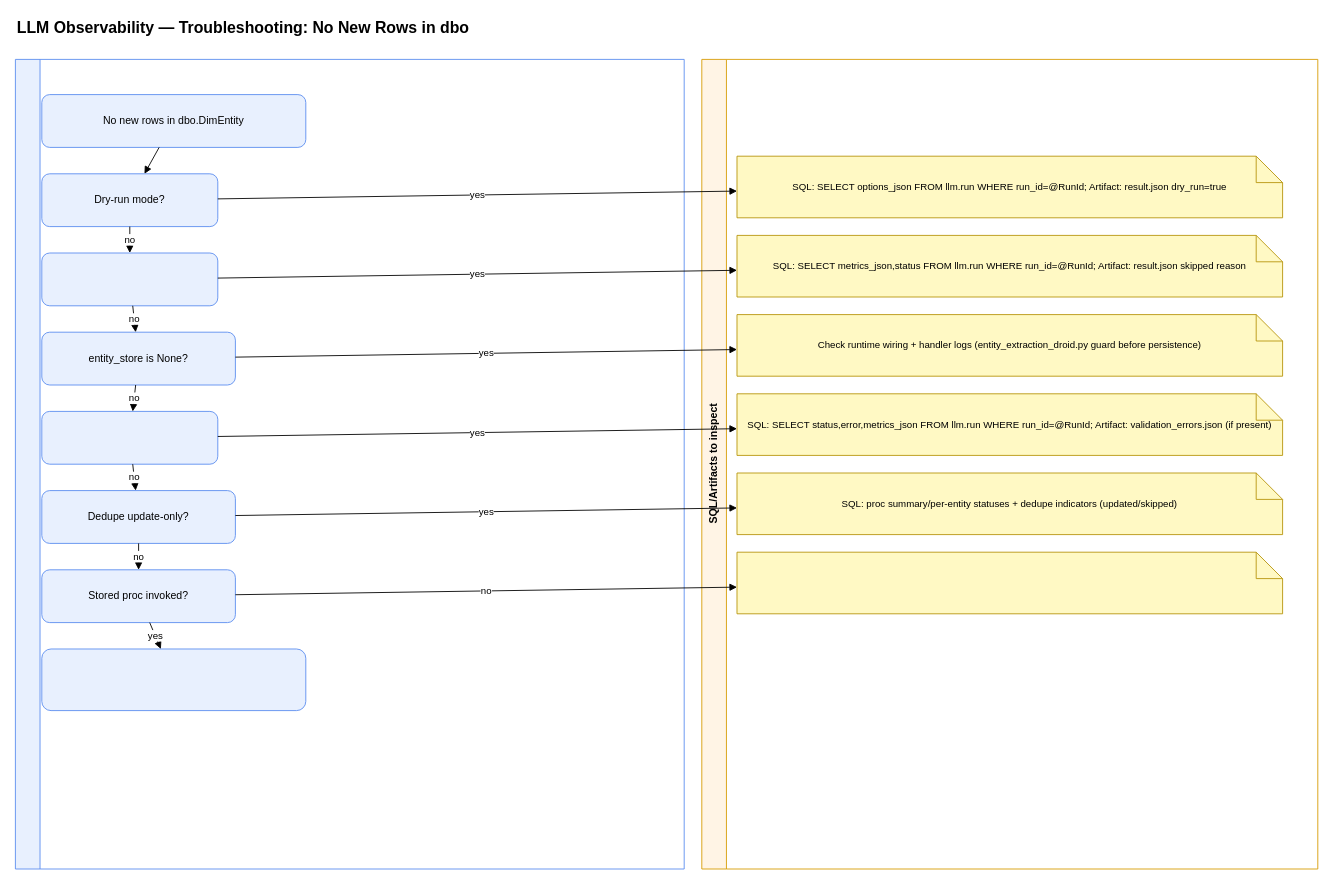
Some shapes in this 1333 by 884 pixel diagram are drawn without their labels. Here are the shapes that lost their labels. From the top down, the box of each, then its label:
(41, 252, 218, 306): Handler skipped?
(41, 411, 218, 464): Validation errors?
(15, 59, 684, 869): Decision flow
(736, 551, 1283, 614): Artifacts: output.json + result.json Verify proc call path
(41, 648, 306, 711): Investigate downstream dbo tables and run-linked columns
